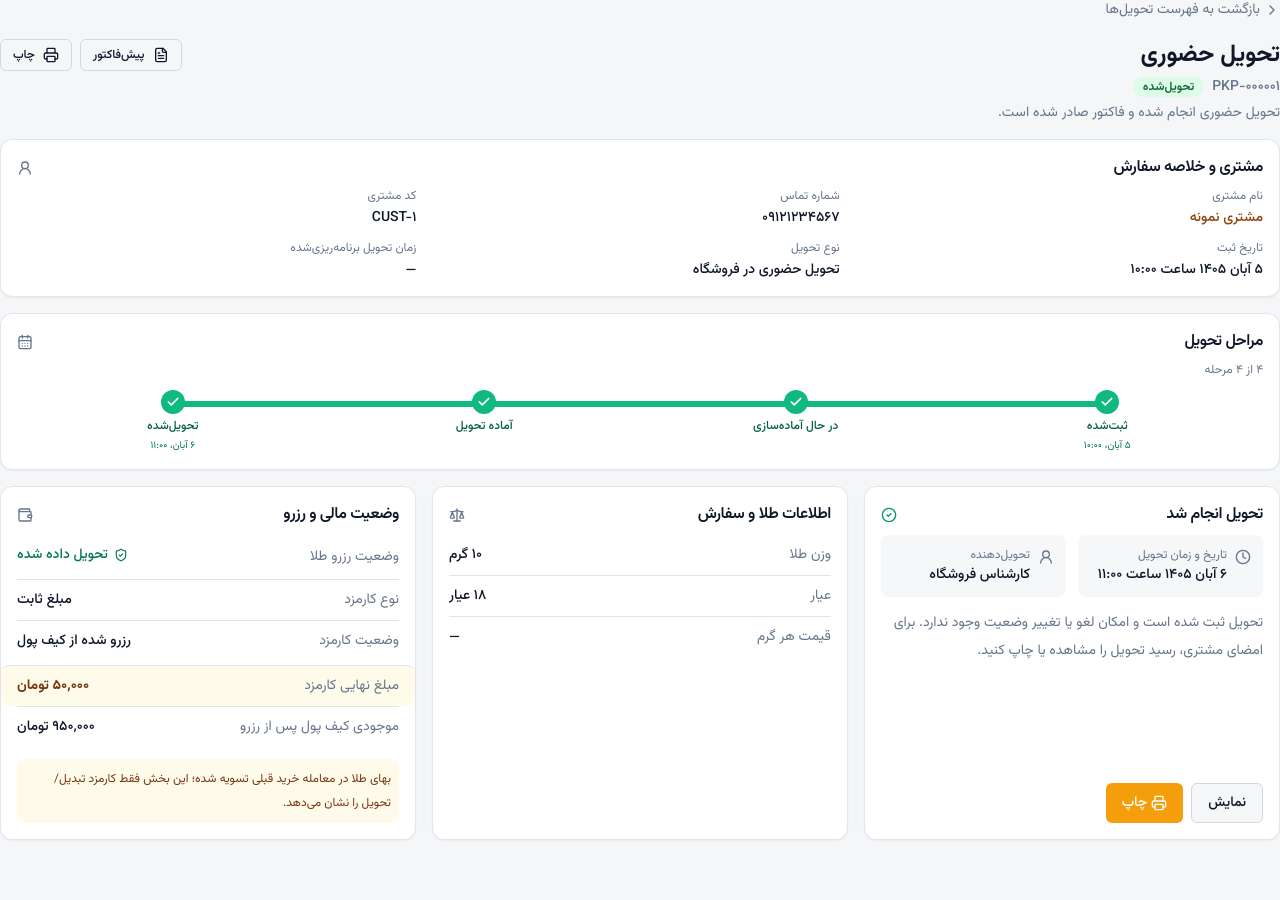
Test: pickup detail page › prints the receipt when the print button is used
Click the button "چاپ" below "۶ آبان ۱۴۰۵ ساعت ۱۱:۰۰".
click(1144, 803)  # box [1106,783,1183,823]
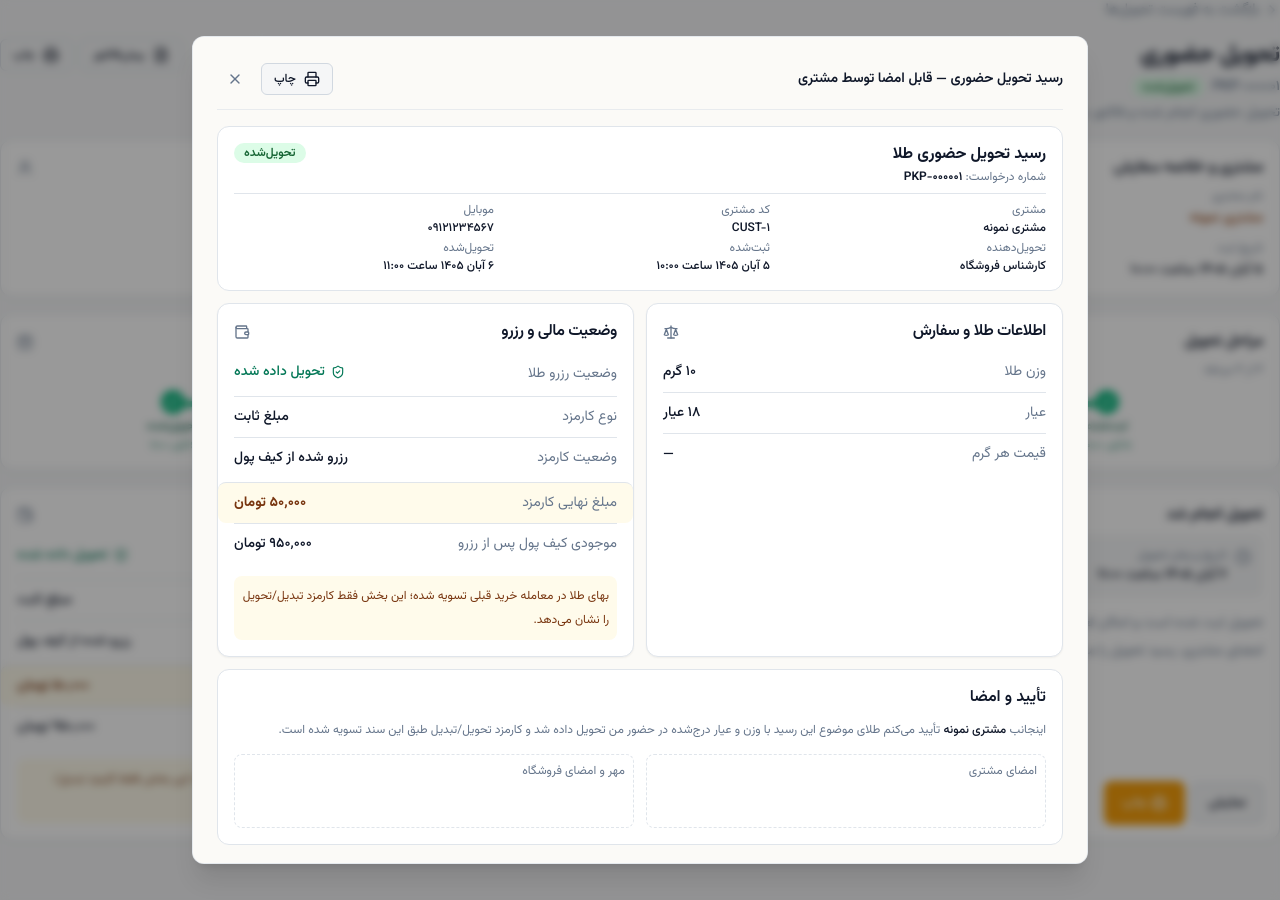
Expected: the dialog is shown
